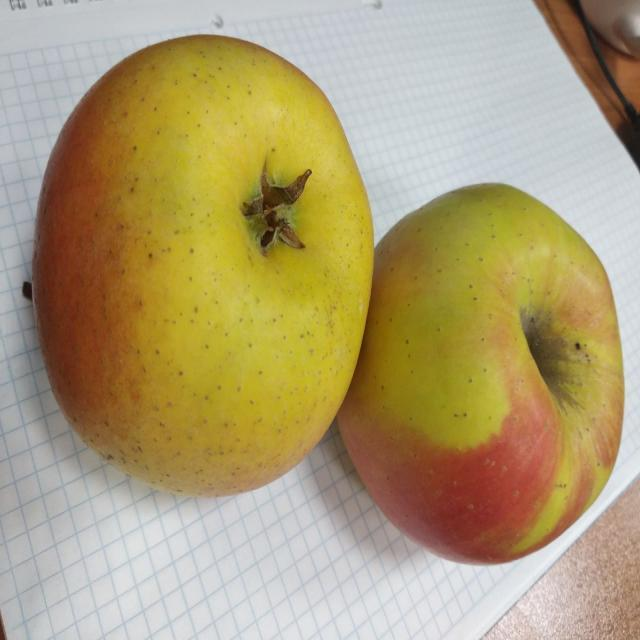Fresh Apple: (37, 43, 378, 500), (364, 166, 628, 572)
